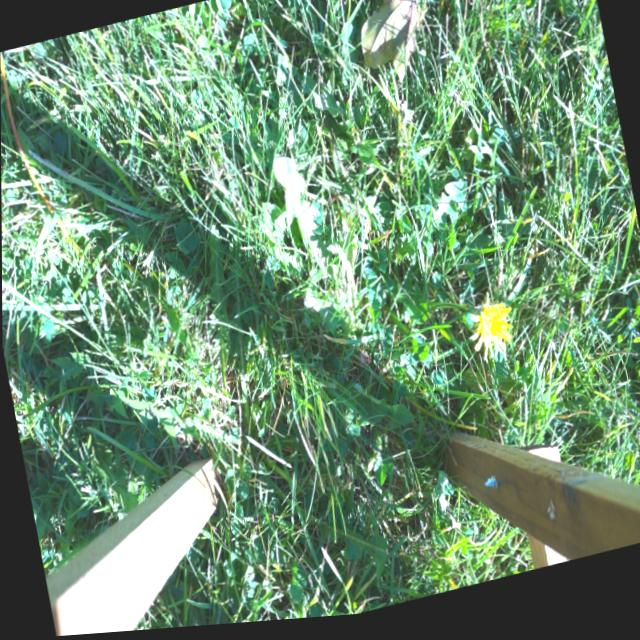flower: (467, 302, 514, 365)
